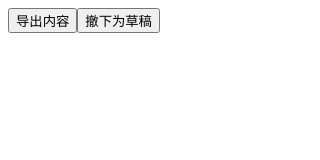
Test: offers withdrawal only for published content and has no fourth archive state
The image size is (320, 160).
Later steps or results of the test are not shown.
Click the button "撤下为草稿" at (119, 20), box top-left (77, 8), bottom-right (160, 33)
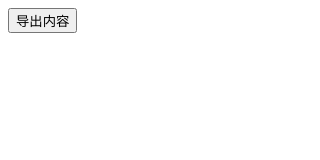
expect the text "撤下为草稿" is gone: met
